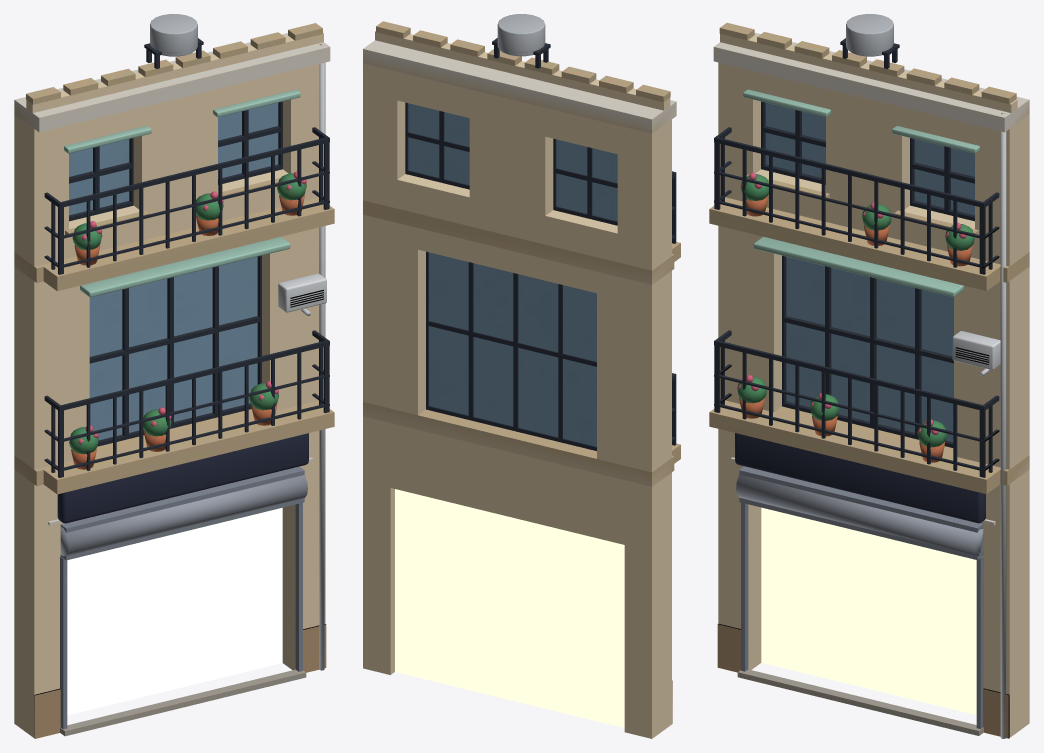
File: trumua-tube-house.glb
3 views of the same model, side by side, from view 1: azimuth 30°, elevation 25°; view 2: azimuth 150°, elevation 25°; view 3: azimuth 330°, elevation 25° (orthographic).
Visible parts, largest first — view 1: trumua-tube-house; view 2: trumua-tube-house; view 3: trumua-tube-house.
Boxes of the visible parts, box(x1,y1,x2,y2) form: trumua-tube-house: box(14, 14, 334, 738); trumua-tube-house: box(363, 14, 680, 738); trumua-tube-house: box(709, 14, 1029, 738).
Size of the model in its own units: 4.2 by 9.3 by 0.9.
4 materials, 1 textured.
